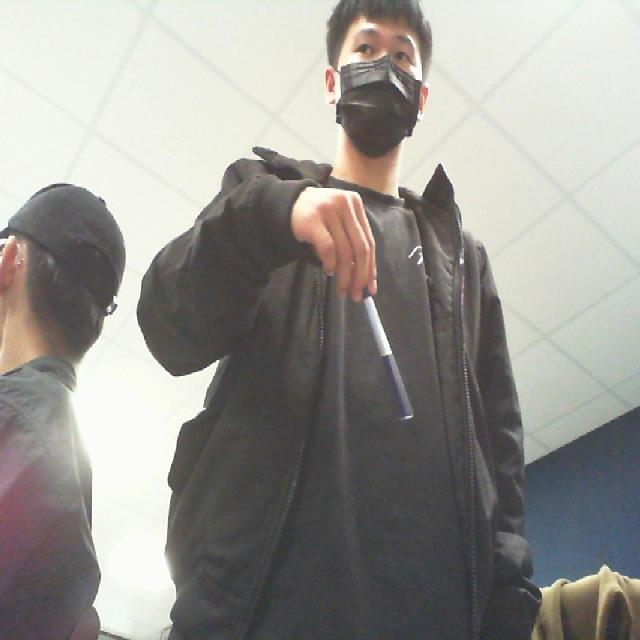Pen: (350, 282, 427, 449)
